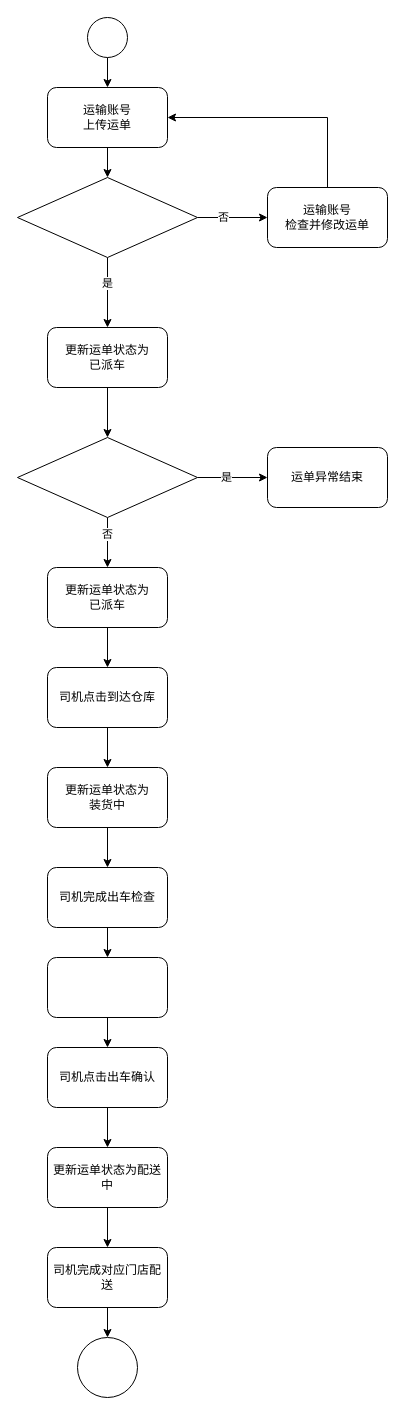
Image size: 405x1415. Some labels were removed from this diagram. The centre of each missing label's shape, as x and y in pixels:
仓库完成仓库检查: (x=107, y=987)
开始: (x=107, y=37)
操作账号 审批通过运单？: (x=107, y=217)
操作账号 结束运单？: (x=107, y=477)
结束: (x=107, y=1367)
